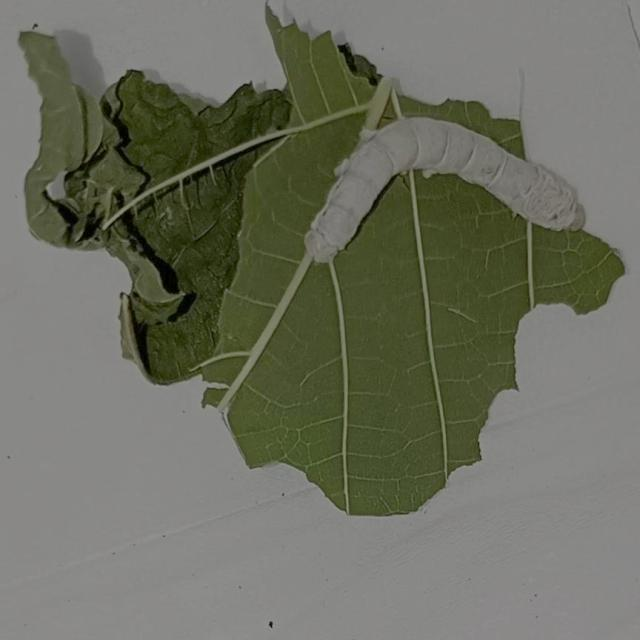Healthy: (292, 91, 606, 278)
